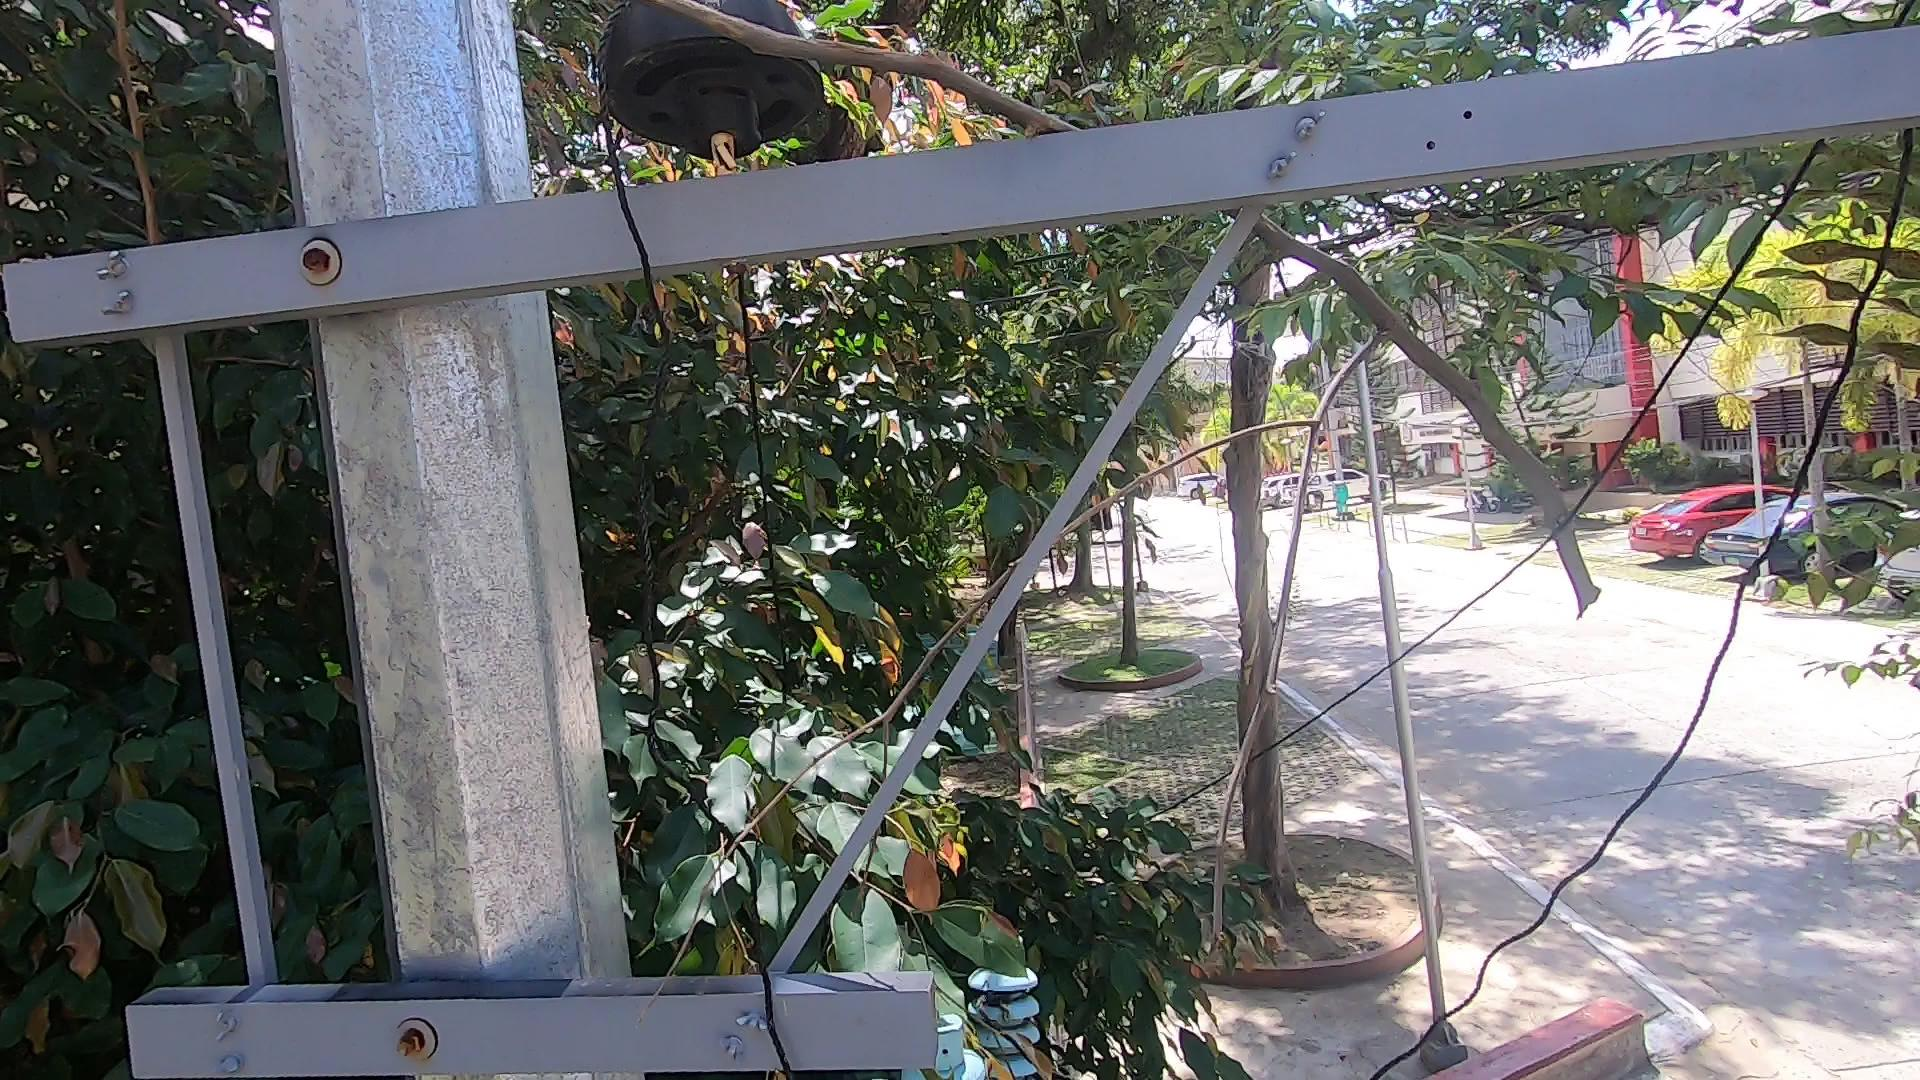tree branch: (636, 189, 1741, 1017), (651, 1, 1087, 135)
